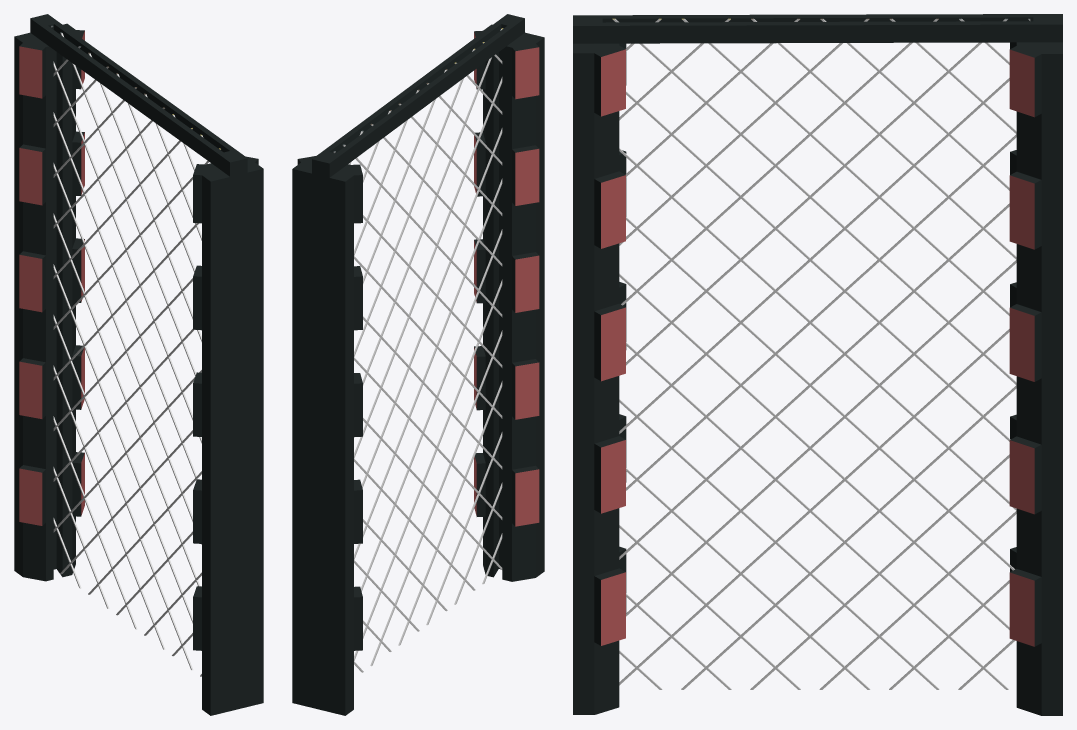
The model's file is door.gltf.
3 views of the same model, side by side, from view 1: azimuth 30°, elevation 25°; view 2: azimuth 150°, elevation 25°; view 3: azimuth 270°, elevation 25° (orthographic). The views are drawn at different scales.
Parts seen in each view (by area): view 1: scianki, siatka; view 2: scianki, siatka; view 3: scianki, siatka.
Part boxes in pixels (x1,y1,x2,y2): scianki: [14, 14, 263, 715]; siatka: [51, 25, 220, 676]; scianki: [292, 14, 544, 715]; siatka: [333, 28, 503, 672]; scianki: [573, 14, 1062, 715]; siatka: [612, 18, 1030, 689].
Size of the model in its own units: 0.3887 by 3.06 by 2.
Materials: 1 (1 with a texture image).
